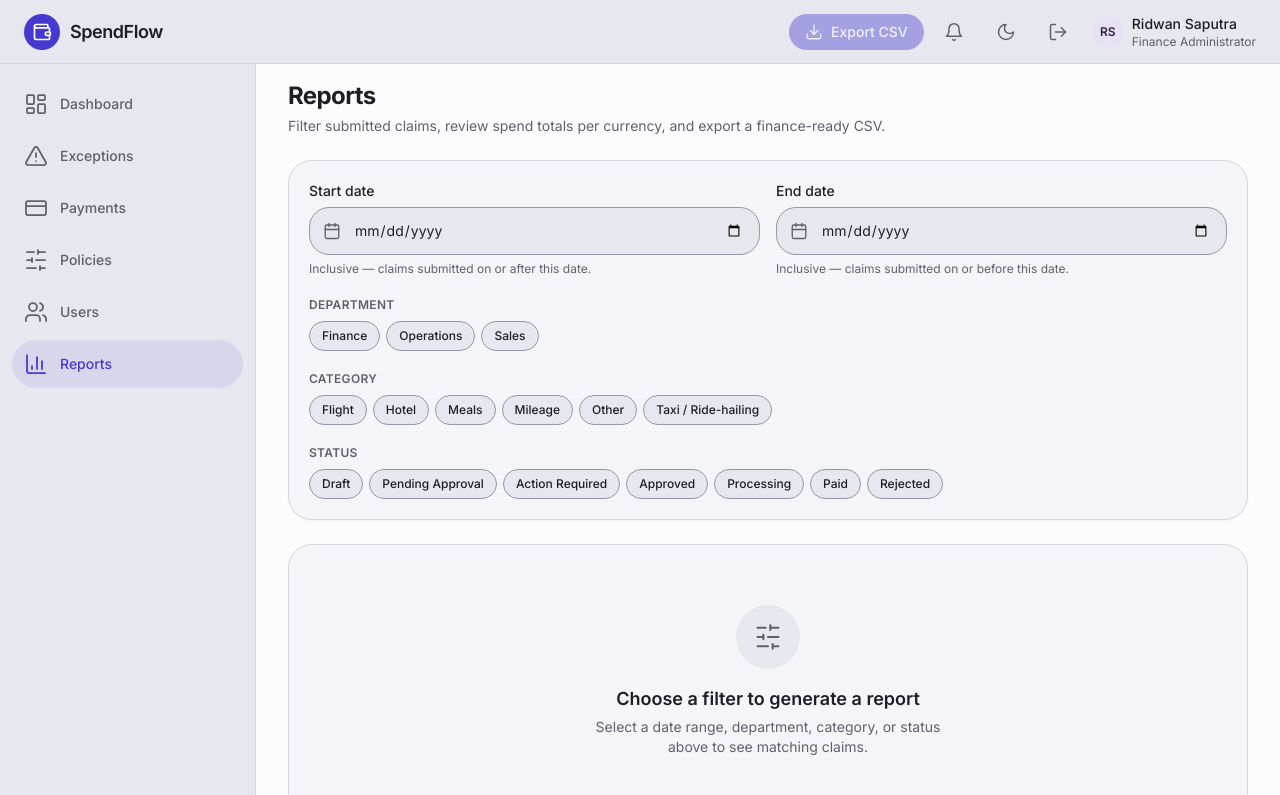
Scenario: Reports page — combinable filters › Clear all filters returns to the unfiltered prompt
Check: the heading "Choose a filter to generate a report" is shown, box [616,685,920,713]
Click the button "Paid".
click(836, 484)  # box [810,469,861,499]
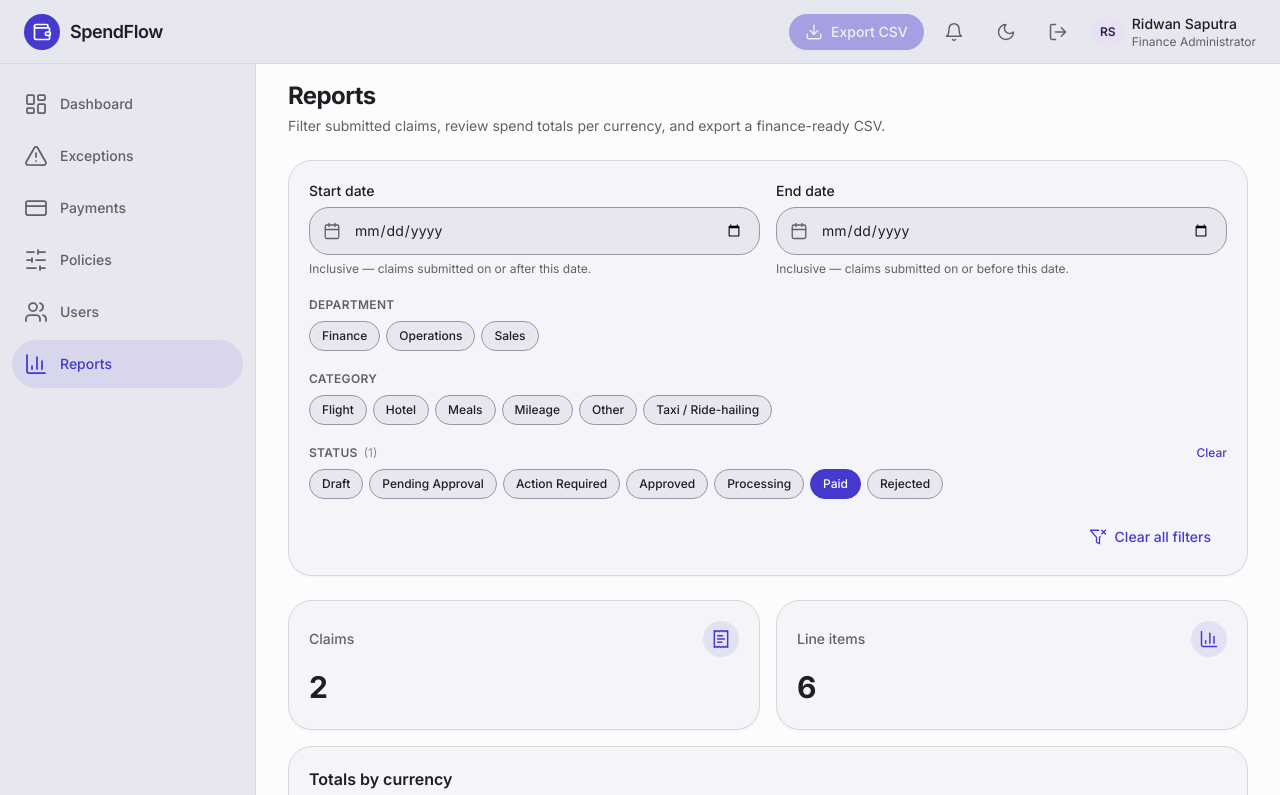
Click the button "Clear all filters".
click(1150, 537)  # box [1073,519,1227,555]
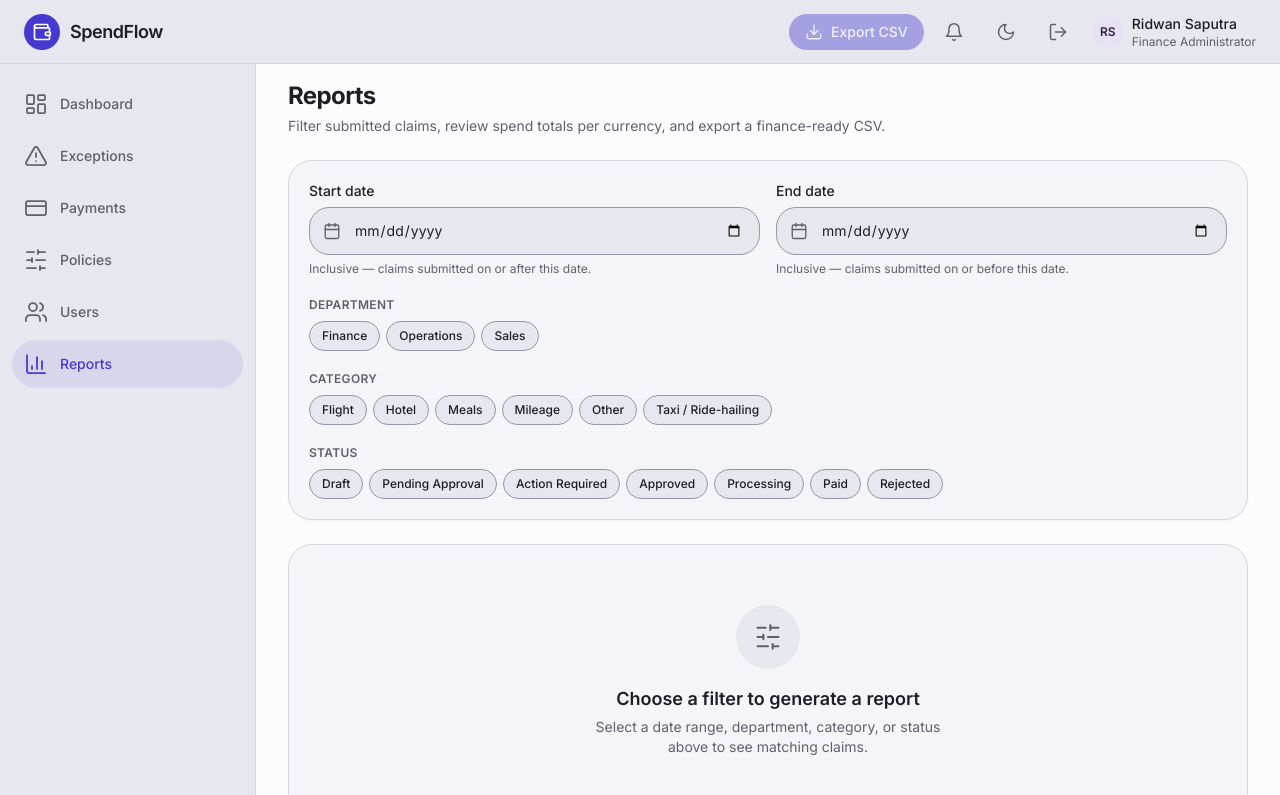
Check: the heading "Choose a filter to generate a report" is shown, box [616,685,920,713]
